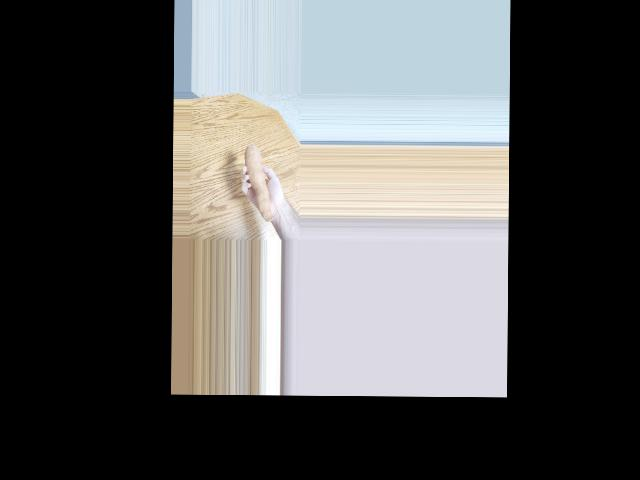sweet_potato: (242, 142, 271, 218)
